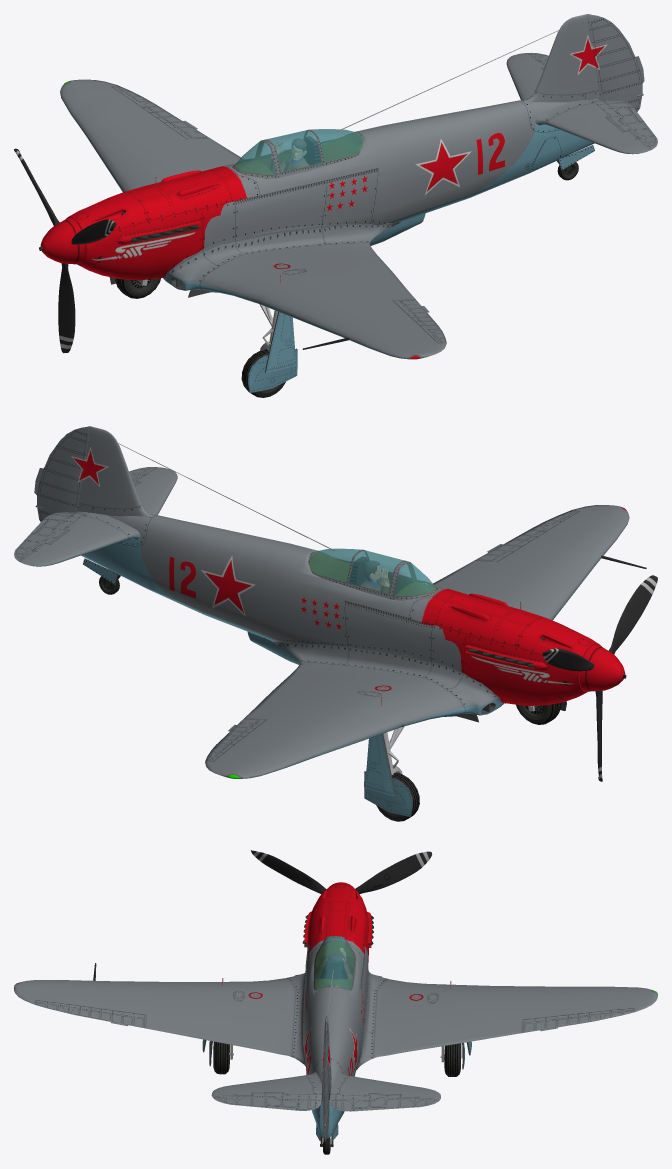
Rendered from yak3.glb.
3 views of the same model, one above another, from view 1: azimuth 30°, elevation 25°; view 2: azimuth 150°, elevation 25°; view 3: azimuth 270°, elevation 25° (orthographic). The views are drawn at different scales.
Visible parts, largest first — view 1: Line_J-FACES, LinePP05-FACES, Line39-FACES (×2), LineTT10-FACES, Object02-FACES, Line01-FACES, Object01-FACES, prop_Sphere01-FACES, LineTT11-FACES, gear_Object03-FACES, prop_Line05-FACES, gear_Object04-FACES (+2 smaller); view 2: Line_J-FACES, LinePP05-FACES, Line39-FACES (×2), LineTT11-FACES, Object02-FACES, Line01-FACES, Object01-FACES, LineTT10-FACES, prop_Sphere01-FACES, gear_Object06-FACES, prop_Line30-FACES, gear_Object05-FACES (+3 smaller); view 3: LinePP05-FACES, Line_J-FACES, LineTT11-FACES, LineTT10-FACES, Line39-FACES, Line01-FACES, prop_Line29-FACES, prop_Line30-FACES, Object01-FACES, gear_Torus09-FACES, gear_Torus08-FACES.
Part boxes in pixels (box(x1,y1,x2,y2)): Line_J-FACES: box(66, 98, 598, 280); LinePP05-FACES: box(60, 79, 446, 359); Line39-FACES (×2): box(233, 129, 363, 178); LineTT10-FACES: box(535, 99, 657, 154); Object02-FACES: box(523, 14, 599, 102); Line01-FACES: box(235, 129, 362, 174); Object01-FACES: box(586, 14, 644, 111); prop_Sphere01-FACES: box(40, 217, 85, 264); LineTT11-FACES: box(506, 52, 548, 99); gear_Object03-FACES: box(264, 311, 296, 372); prop_Line05-FACES: box(58, 263, 75, 353); gear_Object04-FACES: box(247, 348, 297, 392); Line_J-FACES: box(80, 511, 601, 705); LinePP05-FACES: box(205, 505, 629, 778); Line39-FACES (×2): box(308, 548, 437, 600); LineTT11-FACES: box(14, 512, 140, 566); Object02-FACES: box(78, 426, 153, 516); Line01-FACES: box(310, 549, 434, 595); Object01-FACES: box(34, 426, 91, 521); LineTT10-FACES: box(129, 467, 177, 514); prop_Sphere01-FACES: box(579, 644, 625, 691); gear_Object06-FACES: box(364, 734, 395, 796); prop_Line30-FACES: box(608, 575, 657, 654); gear_Object05-FACES: box(364, 771, 412, 816); LinePP05-FACES: box(14, 969, 657, 1069); Line_J-FACES: box(303, 884, 368, 1138); LineTT11-FACES: box(330, 1072, 440, 1111); LineTT10-FACES: box(211, 1072, 321, 1110); Line39-FACES: box(315, 938, 353, 989); Line01-FACES: box(315, 938, 353, 989); prop_Line29-FACES: box(355, 851, 432, 893); prop_Line30-FACES: box(251, 850, 326, 893); Object01-FACES: box(322, 1021, 329, 1141); gear_Torus09-FACES: box(444, 1043, 461, 1076); gear_Torus08-FACES: box(213, 1041, 229, 1074).
Bounding box in the file's own units: 8.48 × 3.33 × 9.15.
Materials: 79 (48 with a texture image).
